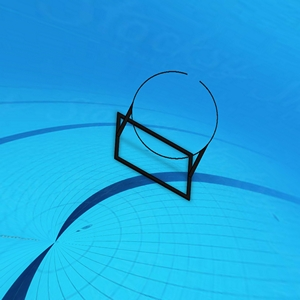circle: (112, 65, 230, 205)
